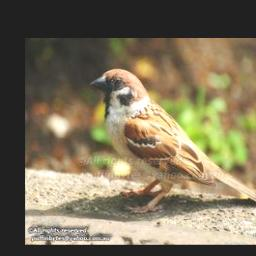Sparrow: (89, 67, 256, 214)
